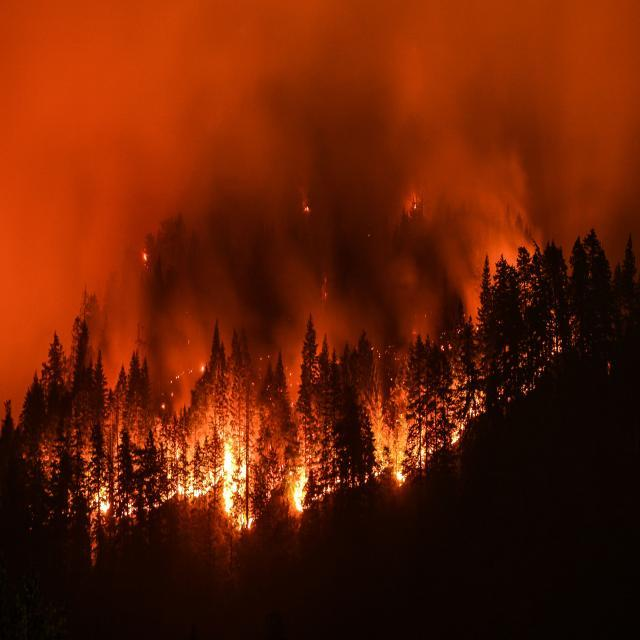Fire: (220, 446, 250, 518)
Smoke: (0, 9, 635, 416)
